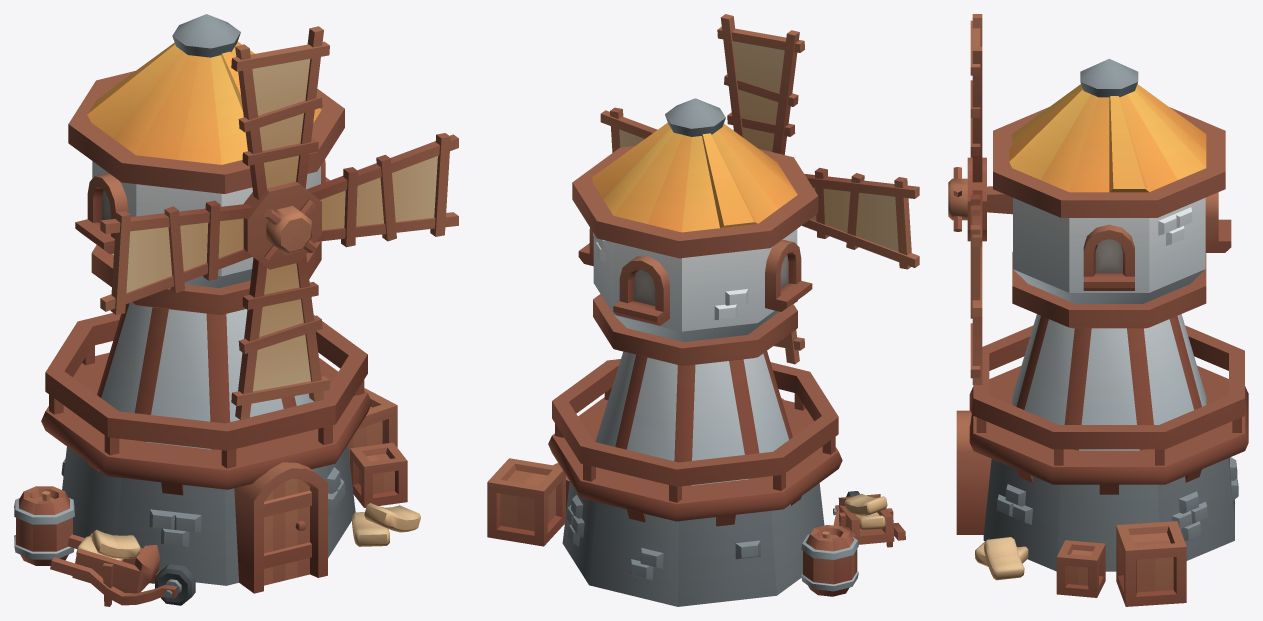
File: building_windmill_yellow.glb
3 views of the same model, side by side, from view 1: azimuth 30°, elevation 25°; view 2: azimuth 150°, elevation 25°; view 3: azimuth 270°, elevation 25° (orthographic). The views are drawn at different scales.
Visible parts, largest first — view 1: building_windmill_yellow, building_windmill_top_fan_yellow, building_windmill_top_yellow; view 2: building_windmill_yellow, building_windmill_top_yellow, building_windmill_top_fan_yellow; view 3: building_windmill_yellow, building_windmill_top_yellow, building_windmill_top_fan_yellow.
Part boxes in pixels (bbox=[...]): building_windmill_yellow: bbox=[14, 302, 420, 606]; building_windmill_top_fan_yellow: bbox=[100, 26, 458, 419]; building_windmill_top_yellow: bbox=[68, 14, 344, 314]; building_windmill_yellow: bbox=[487, 351, 905, 606]; building_windmill_top_yellow: bbox=[572, 98, 818, 365]; building_windmill_top_fan_yellow: bbox=[600, 14, 919, 364]; building_windmill_yellow: bbox=[956, 314, 1248, 606]; building_windmill_top_yellow: bbox=[987, 58, 1231, 328]; building_windmill_top_fan_yellow: bbox=[948, 14, 986, 384].
Bounding box in the file's own units: 1.13 × 1.46 × 0.8165.
1 material, 1 textured.
